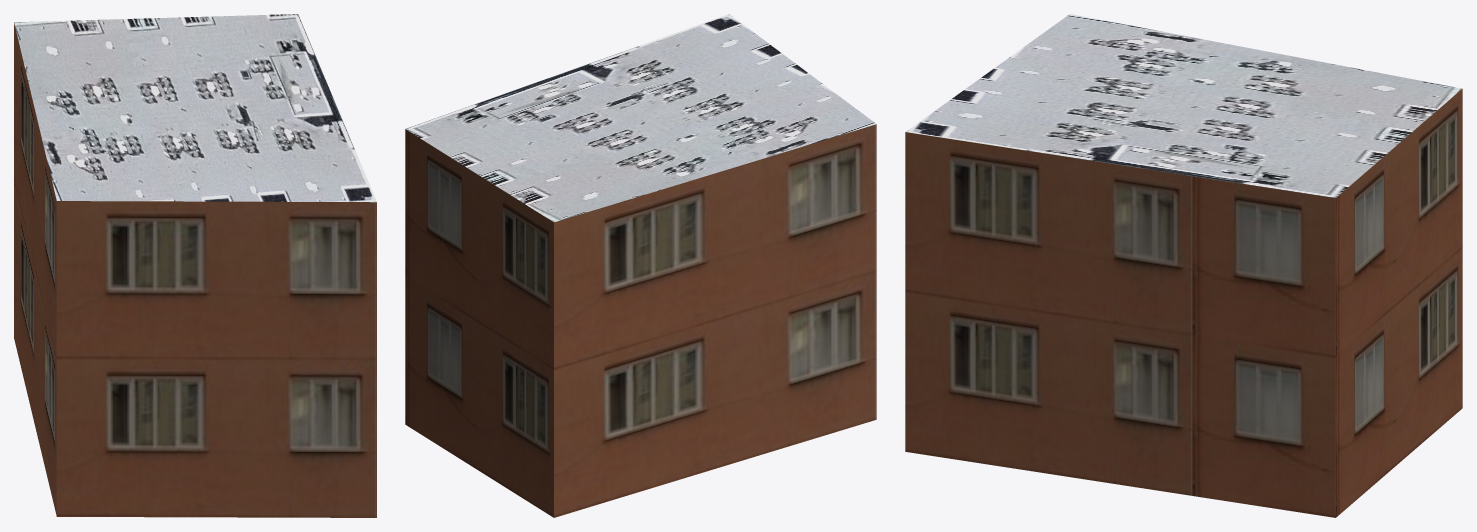
Rendered from ResTex__2611.fbx.
The picture shows the model from 3 angles, left to right: view 1: azimuth 30°, elevation 25°; view 2: azimuth 150°, elevation 25°; view 3: azimuth 270°, elevation 25°; orthographic projection. The views are drawn at different scales.
Visible parts, largest first — view 1: CityEngineMaterial_20_m, CityEngineMaterial_4_m; view 2: CityEngineMaterial_20_m, CityEngineMaterial_4_m; view 3: CityEngineMaterial_20_m, CityEngineMaterial_4_m.
Boxes of the visible parts, box(x1,y1,x2,y2) form: CityEngineMaterial_20_m: box(14, 23, 376, 517); CityEngineMaterial_4_m: box(14, 14, 376, 202); CityEngineMaterial_20_m: box(405, 124, 876, 517); CityEngineMaterial_4_m: box(405, 14, 876, 222); CityEngineMaterial_20_m: box(905, 89, 1462, 517); CityEngineMaterial_4_m: box(906, 14, 1461, 197).
Bounding box in the file's own units: 7.41 × 6 × 9.47.
Materials: 2 (2 with a texture image).
